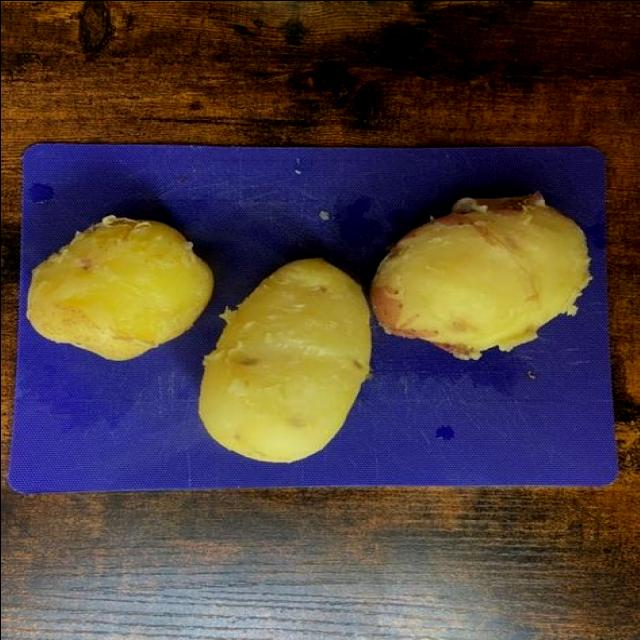kentang rebus: (368, 189, 590, 358), (196, 254, 372, 462), (24, 212, 214, 360)
